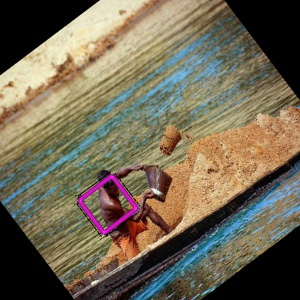square: (75, 172, 142, 238)
